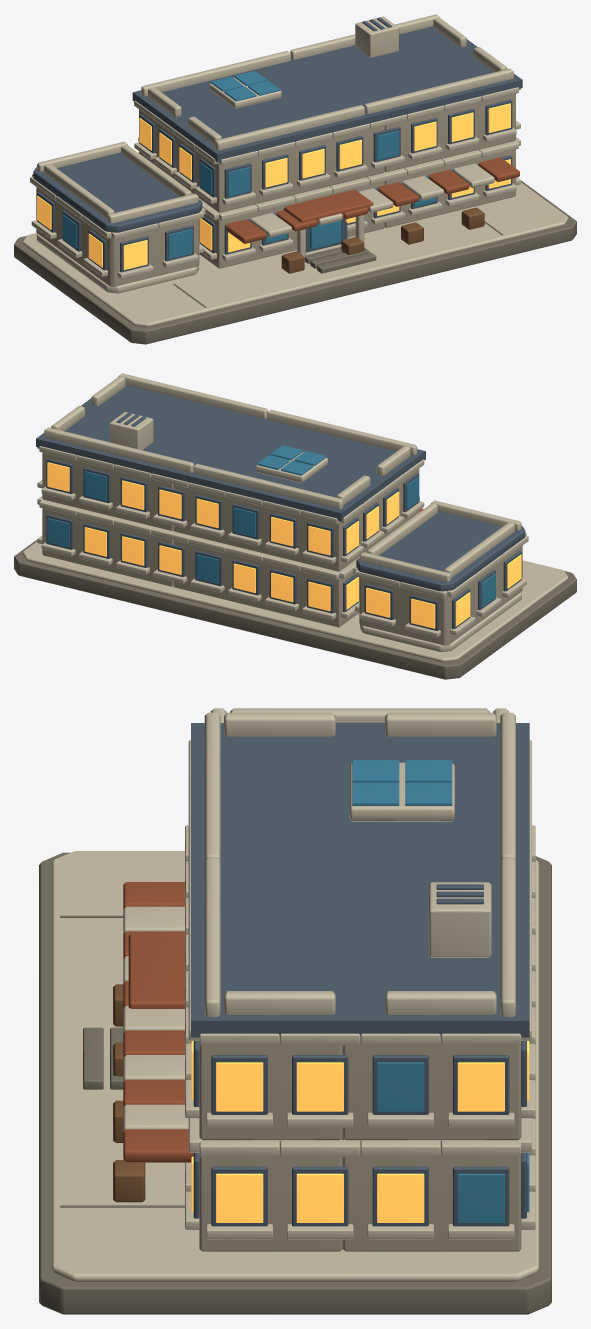
The model's file is civilian-market-normal.glb.
The picture shows the model from 3 angles, top to bottom: view 1: azimuth 30°, elevation 25°; view 2: azimuth 150°, elevation 25°; view 3: azimuth 270°, elevation 25°; orthographic projection. The views are drawn at different scales.
Parts seen in each view (by area): view 1: CivilianShell; view 2: CivilianShell; view 3: CivilianShell.
Part boxes in pixels (box(x1,y1,x2,y2)): CivilianShell: box(14, 14, 576, 344); CivilianShell: box(14, 373, 576, 679); CivilianShell: box(39, 708, 551, 1314).
Size of the model in its own units: 3.97 by 1.38 by 1.98.
